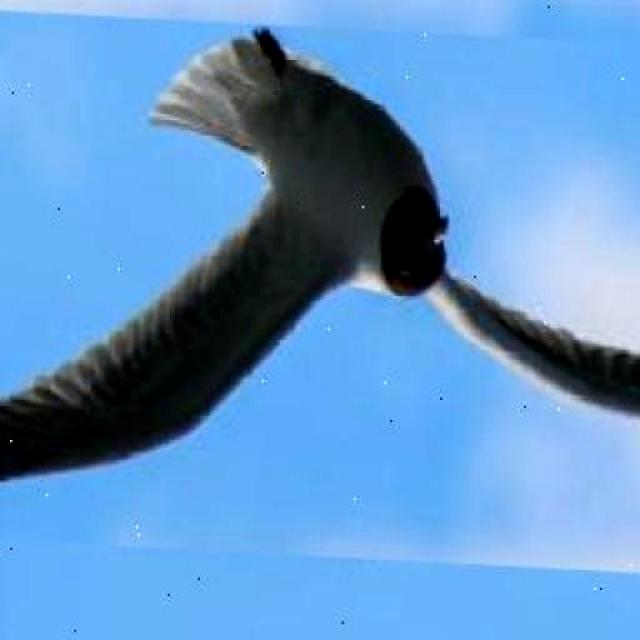airplane: (0, 0, 640, 582)
